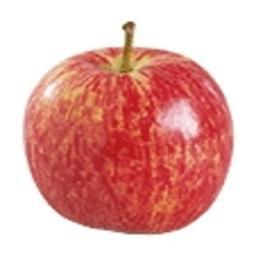apple: (23, 27, 233, 234)
